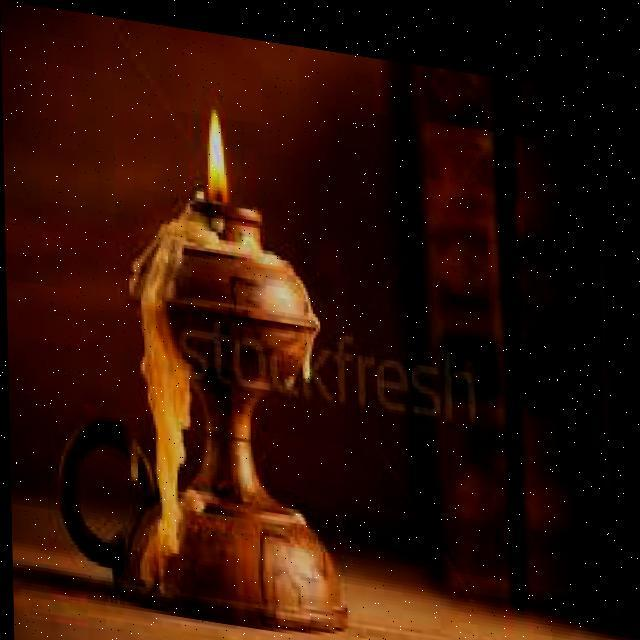Fire: (188, 89, 242, 194)
